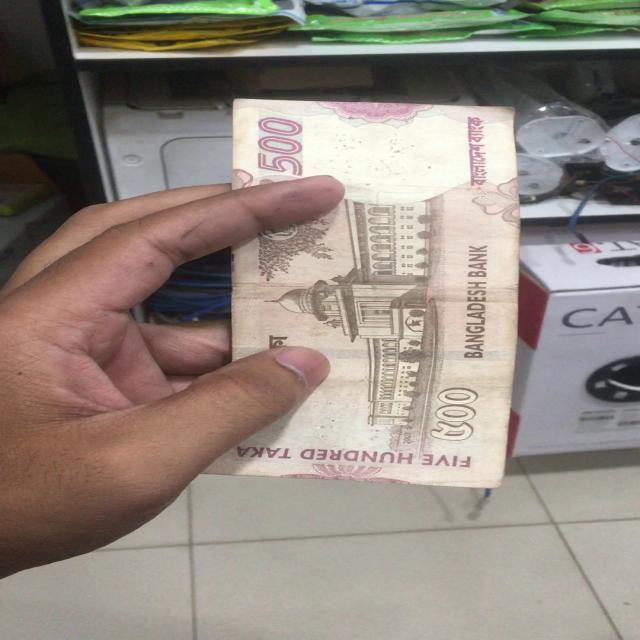Taka: (234, 100, 514, 482)
